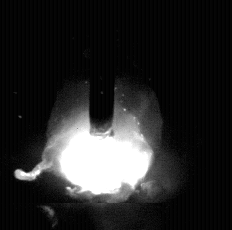arame: (90, 0, 115, 136)
poca: (46, 0, 160, 230)
